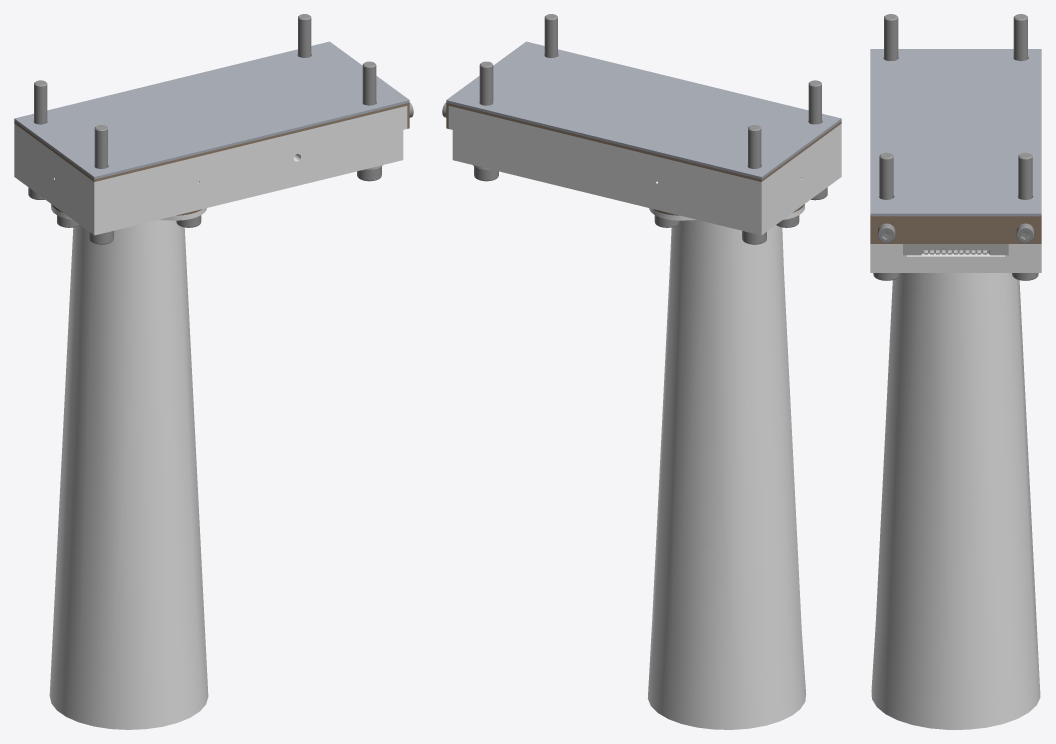
File: fpm.glb
3 renders of one model, left to right at view 1: azimuth 30°, elevation 25°; view 2: azimuth 150°, elevation 25°; view 3: azimuth 270°, elevation 25°, orthographic. The views are drawn at different scales.
Visible parts, largest first — view 1: Science baffle:1, Thermal Pad:1, =>[0:1:1:7], Hexagon Socket Head Cap Screw ISO 4762 - M2.5 x 20 Steel 4.6 (×3), Back Shielding:1; view 2: Science baffle:1, Thermal Pad:1, =>[0:1:1:7], Hexagon Socket Head Cap Screw ISO 4762 - M2.5 x 20 Steel 4.6 (×3), Back Shielding:1; view 3: Science baffle:1, Thermal Pad:1, =>[0:1:1:7], Base shield plate:1, Hexagon Socket Head Cap Screw ISO 4762 - M2.5 x 20 Steel 4.6 (×4), =>[0:1:1:6], Hexagon Socket Head Cap Screw DIN 912 - M1.6 x 0.35 x 3 Stee (×2), Back Shielding:1.
Part boxes in pixels (box(x1,y1,x2,y2)): Science baffle:1: box(49, 204, 208, 729); Thermal Pad:1: box(14, 41, 409, 179); =>[0:1:1:7]: box(14, 106, 407, 235); Hexagon Socket Head Cap Screw ISO 4762 - M2.5 x 20 Steel 4.6 (×3): box(28, 61, 381, 244); Back Shielding:1: box(14, 102, 409, 181); Science baffle:1: box(647, 204, 806, 729); Thermal Pad:1: box(446, 41, 841, 179); =>[0:1:1:7]: box(448, 106, 841, 235); Hexagon Socket Head Cap Screw ISO 4762 - M2.5 x 20 Steel 4.6 (×3): box(474, 61, 827, 244); Back Shielding:1: box(446, 102, 841, 181); Science baffle:1: box(871, 273, 1040, 729); Thermal Pad:1: box(870, 49, 1041, 216); =>[0:1:1:7]: box(870, 244, 1041, 272); Base shield plate:1: box(870, 219, 1041, 243); Hexagon Socket Head Cap Screw ISO 4762 - M2.5 x 20 Steel 4.6 (×4): box(873, 14, 1038, 280); =>[0:1:1:6]: box(903, 244, 1008, 255); Hexagon Socket Head Cap Screw DIN 912 - M1.6 x 0.35 x 3 Stee (×2): box(877, 223, 1034, 243); Back Shielding:1: box(870, 216, 1041, 218).
Bounding box in the file's own units: 0.0676 × 0.121 × 0.029.
